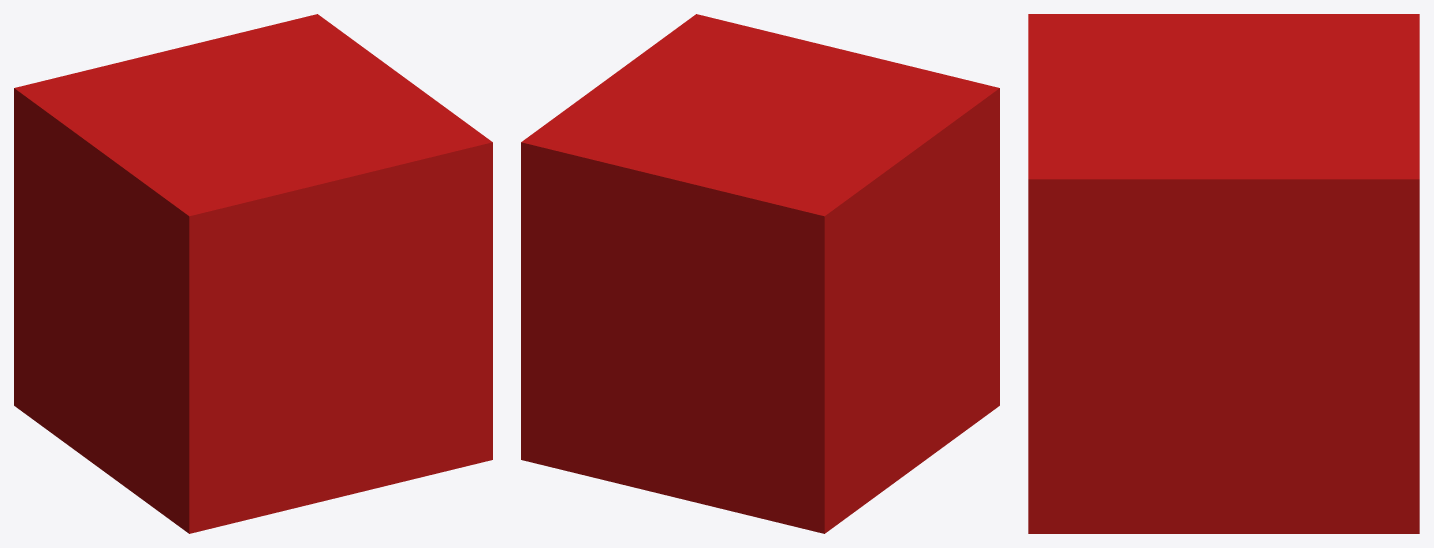
The model's file is Block_edge.fbx.
3 renders of one model, left to right at view 1: azimuth 30°, elevation 25°; view 2: azimuth 150°, elevation 25°; view 3: azimuth 270°, elevation 25°, orthographic. The views are drawn at different scales.
Parts seen in each view (by area): view 1: edge; view 2: edge; view 3: edge.
Boxes of the visible parts, left/top/right/bottom form: edge: left=14, top=14, right=492, bottom=533; edge: left=521, top=14, right=999, bottom=533; edge: left=1028, top=14, right=1419, bottom=533.
Bounding box in the file's own units: 0.125 × 0.125 × 0.125.
